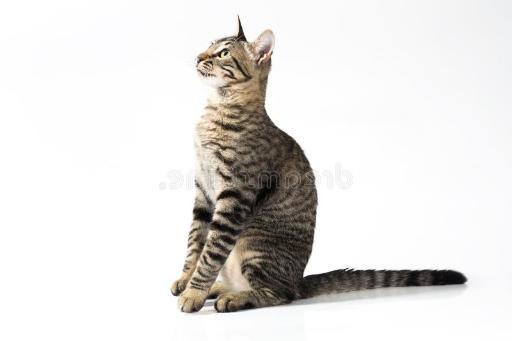cat_sitting: (172, 17, 467, 313)
